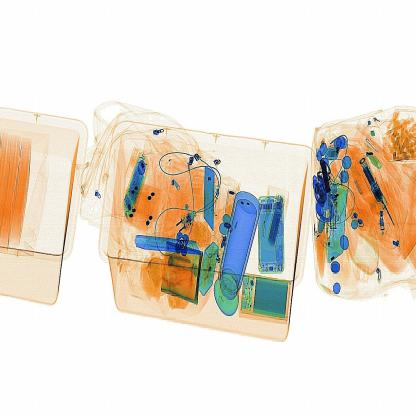pliers: (128, 226, 200, 260)
